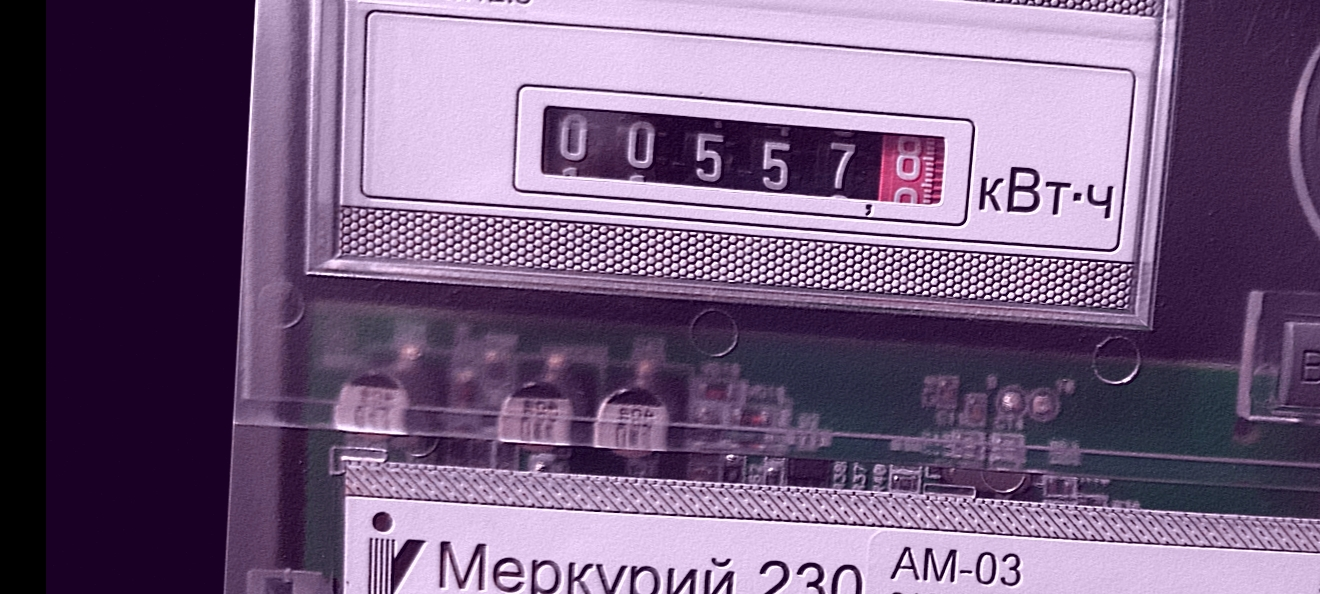0: (555, 108, 593, 166), (623, 117, 659, 171)
5: (757, 134, 797, 194), (691, 128, 728, 186)
7: (822, 137, 858, 193)
8: (894, 133, 925, 184)
screen: (507, 76, 982, 232)
